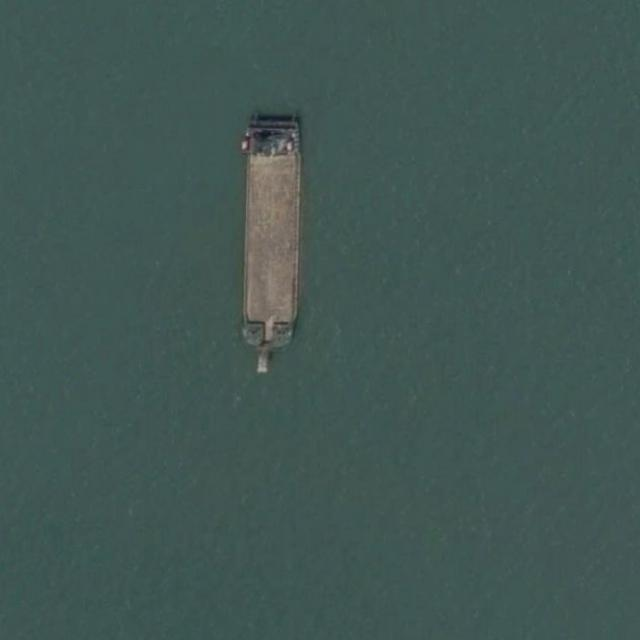ship: (238, 112, 305, 377)
